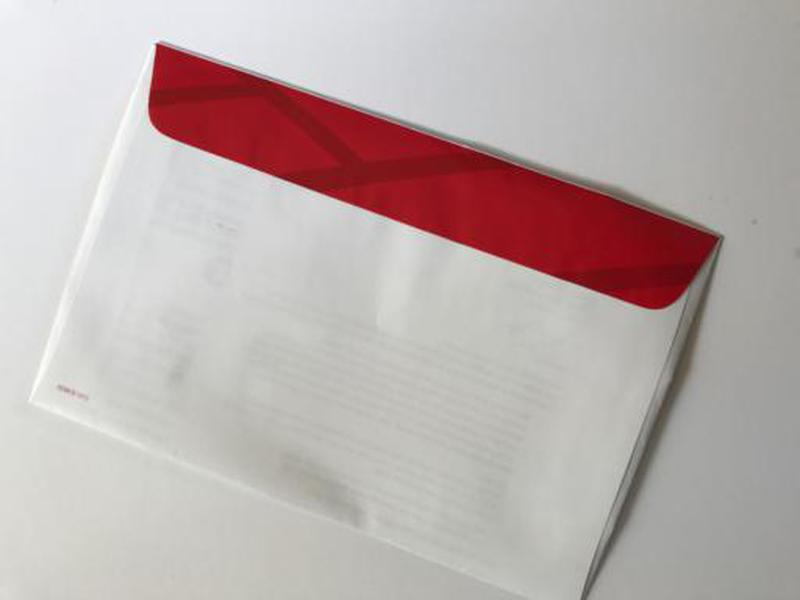paper: (23, 31, 727, 600)
